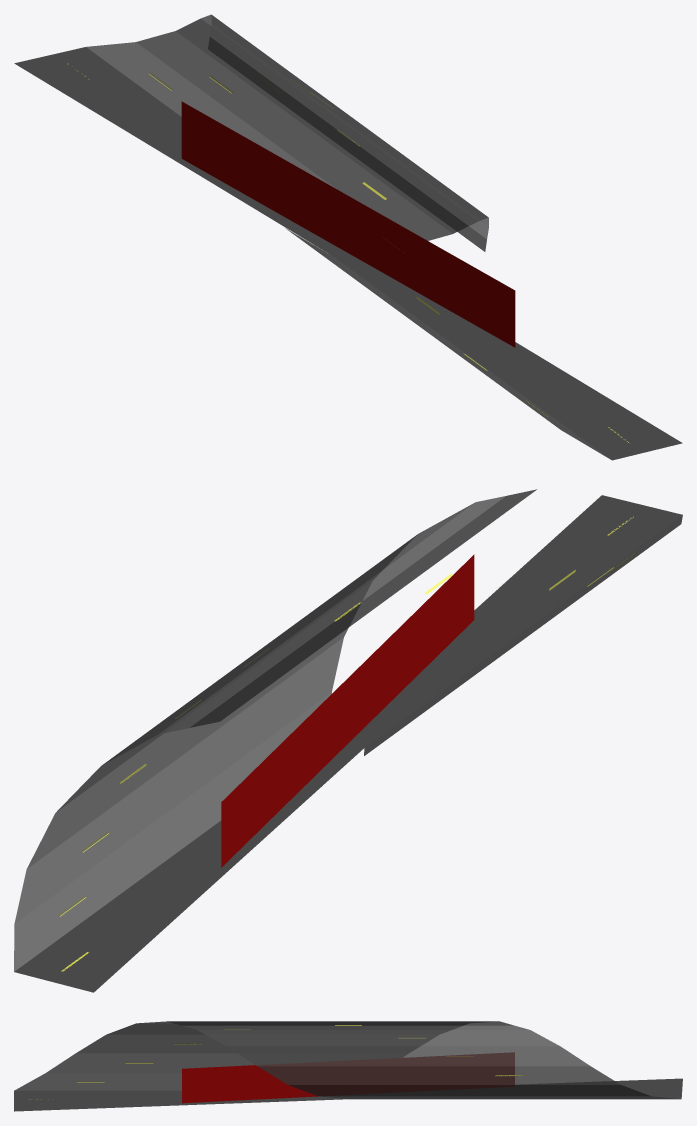
The model's file is vcor.obj.
3 views of the same model, one above another, from view 1: azimuth 30°, elevation 25°; view 2: azimuth 150°, elevation 25°; view 3: azimuth 270°, elevation 25° (orthographic). The views are drawn at different scales.
Size of the model in its own units: 240 by 235 by 2056.
